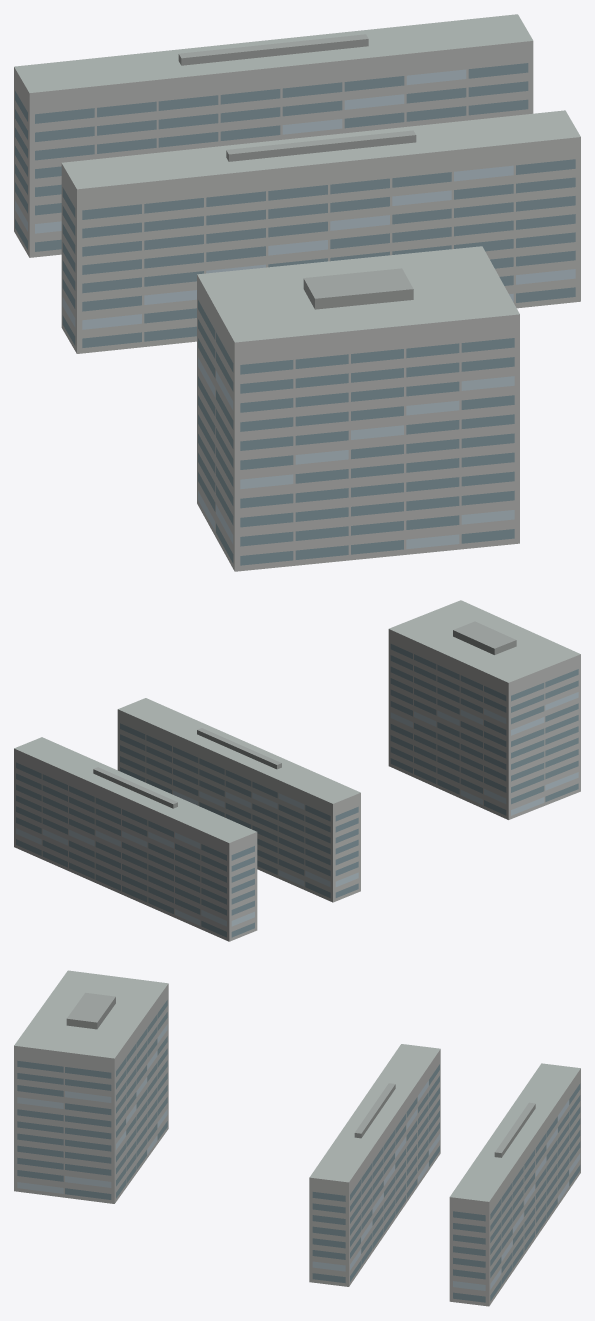
The model's file is apt-a13481001.glb.
3 renders of one model, top to bottom at view 1: azimuth 30°, elevation 25°; view 2: azimuth 150°, elevation 25°; view 3: azimuth 270°, elevation 25°, orthographic. The views are drawn at different scales.
Visible parts, largest first — view 1: apt-a13481001; view 2: apt-a13481001; view 3: apt-a13481001.
Part boxes in pixels (x1=…): apt-a13481001: x1=14, y1=14, x2=580, y2=571; apt-a13481001: x1=14, y1=600, x2=580, y2=941; apt-a13481001: x1=14, y1=970, x2=580, y2=1306.
Size of the model in its own units: 107 by 40 by 135.
